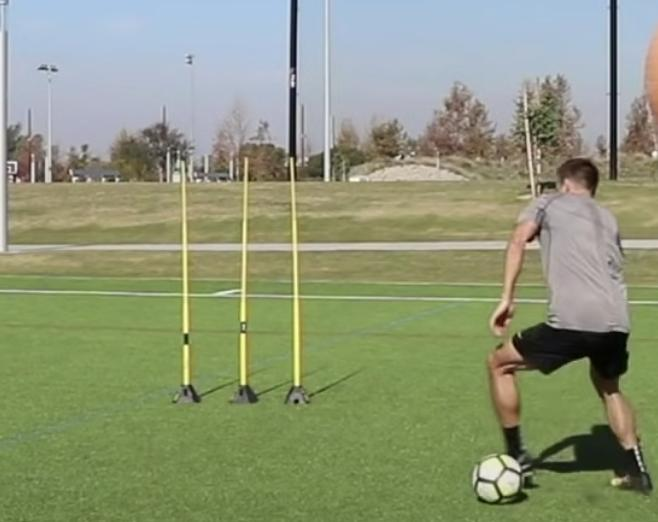ball: (472, 456, 523, 502)
foot: (609, 466, 654, 493)
person: (487, 159, 653, 494)
